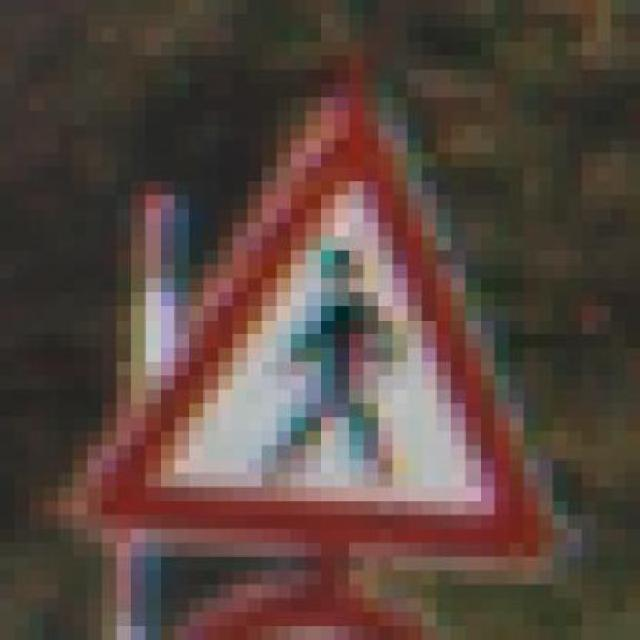Pedestrian Crossing: (72, 28, 597, 570)
